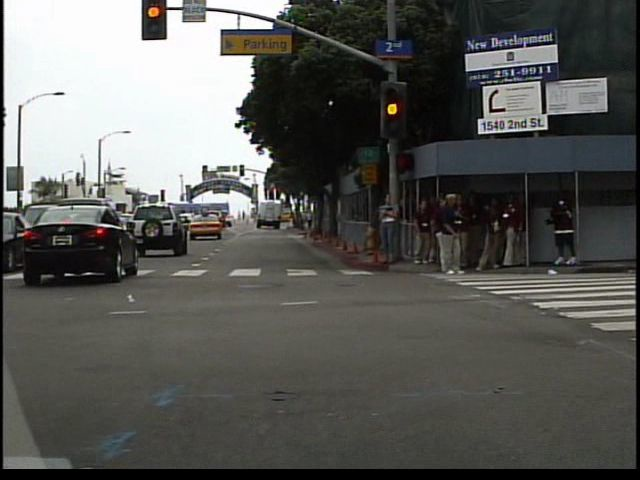person: (377, 188, 405, 272)
